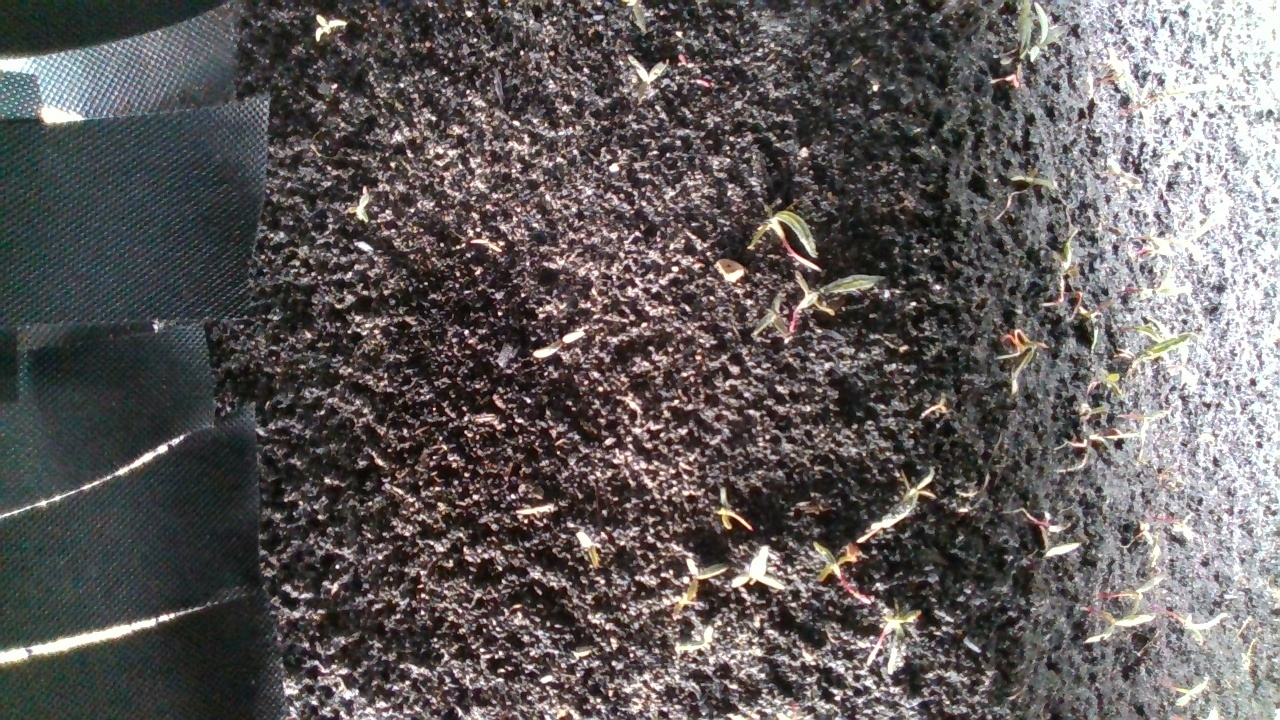weed: (999, 325, 1052, 385), (536, 326, 603, 363), (623, 56, 666, 100), (350, 190, 380, 224)
